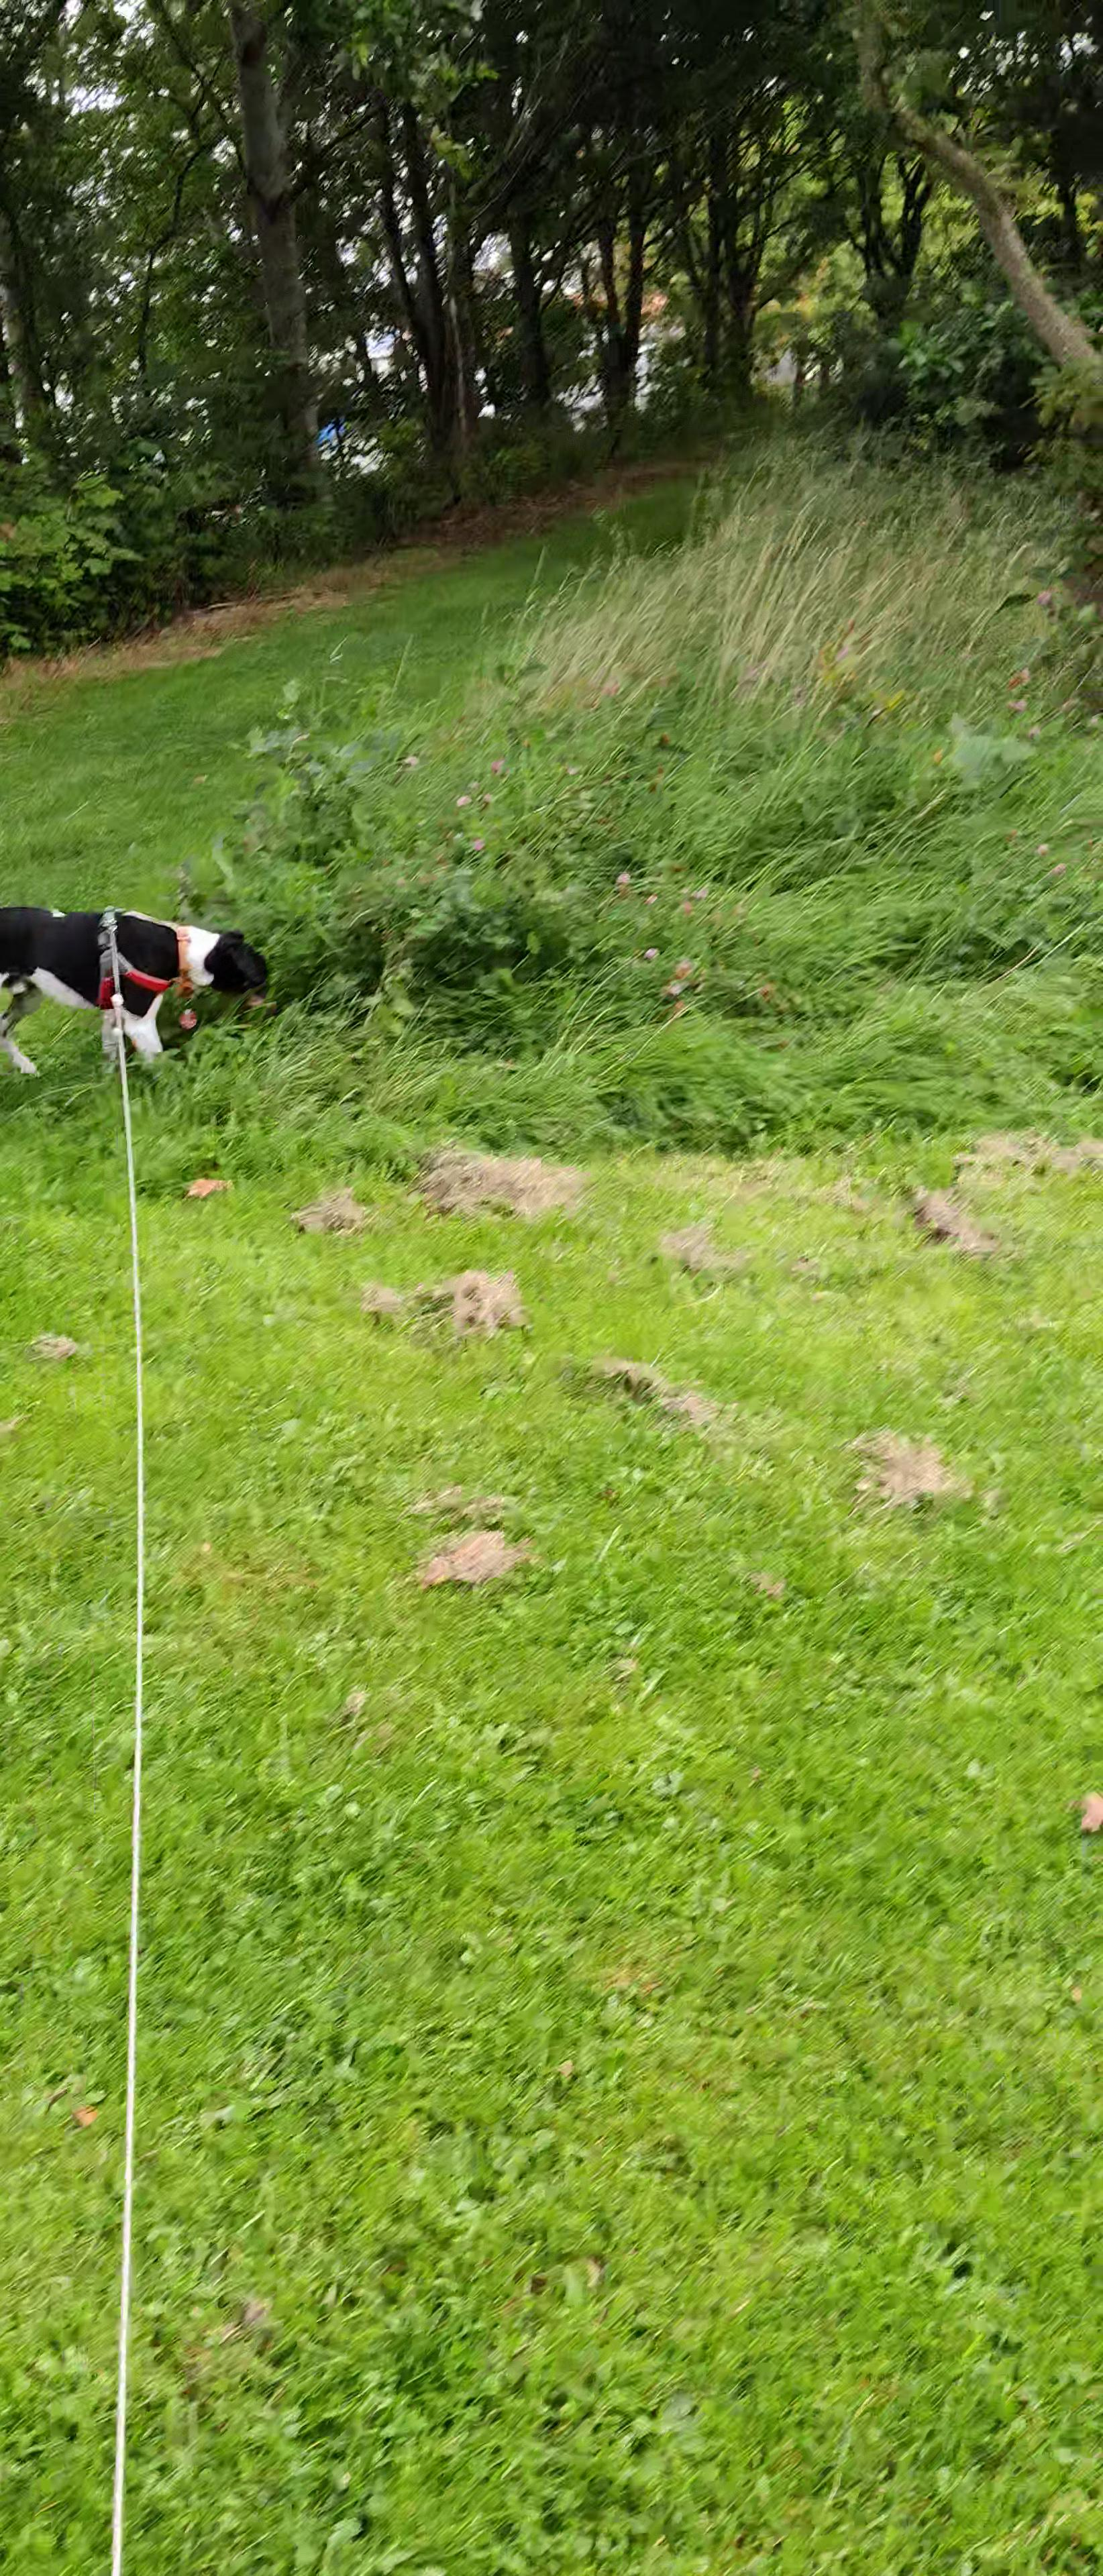Dog: (0, 887, 284, 1091)
